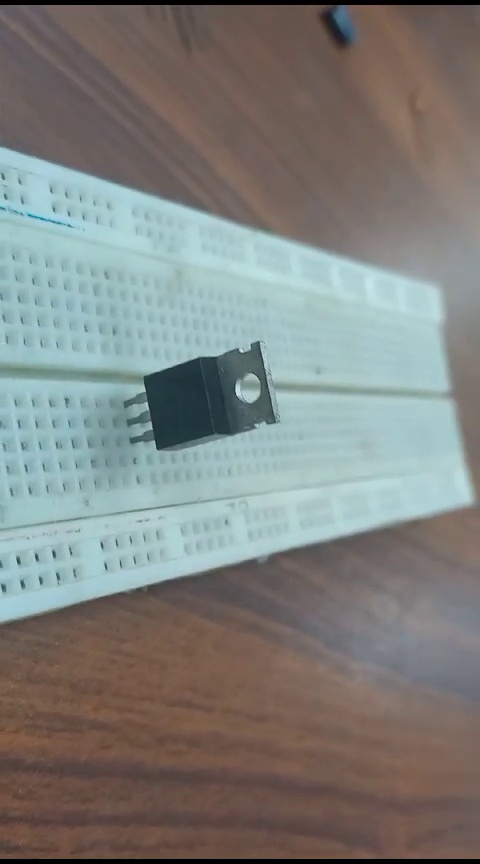voltage regulator: (118, 349, 276, 461)
